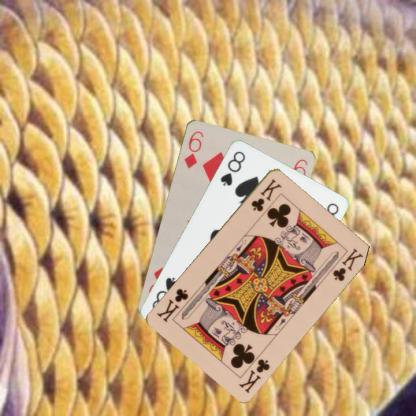6d: (182, 128, 204, 169)
8s: (217, 148, 247, 187)
Kc: (236, 355, 271, 394), (248, 176, 283, 212)
